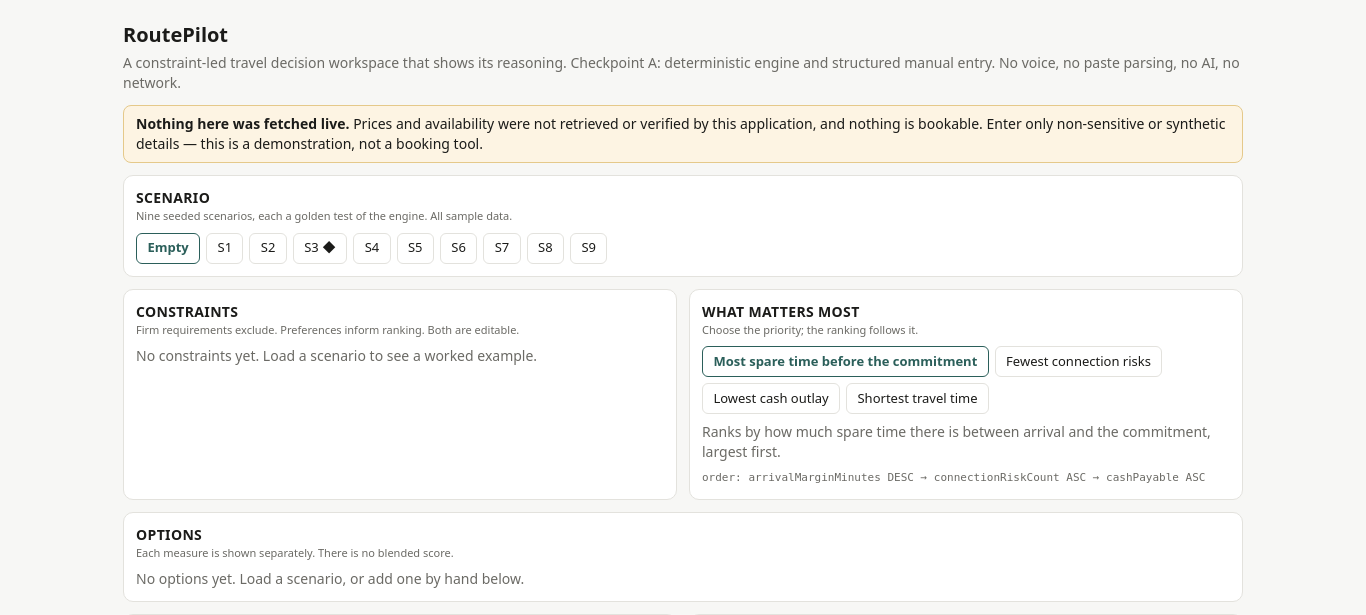
Test case: a proposal conflicting with a human-authored constraint › "Replace with the suggestion" updates it deliberately
Step 1. Click the button "S1" → (225, 248), box 206,232 -> 244,264
(page scrolled)
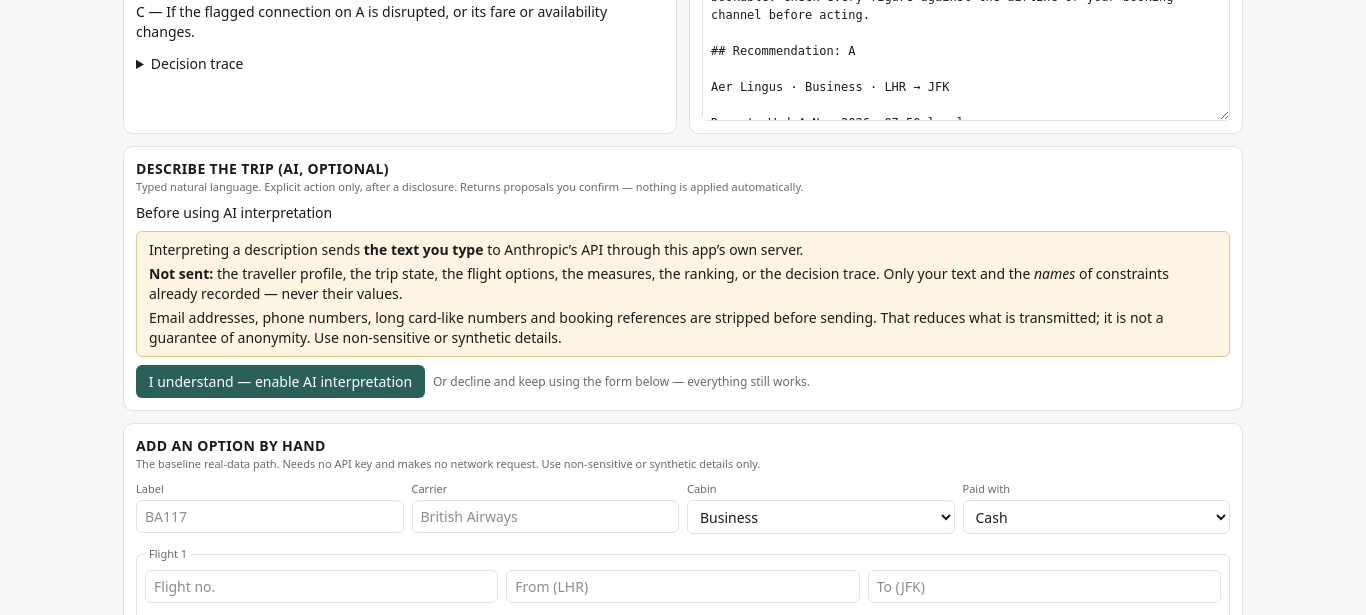
Step 2. Click the button "I understand — enable AI interpretation" → (280, 382), box 136,365 -> 425,398
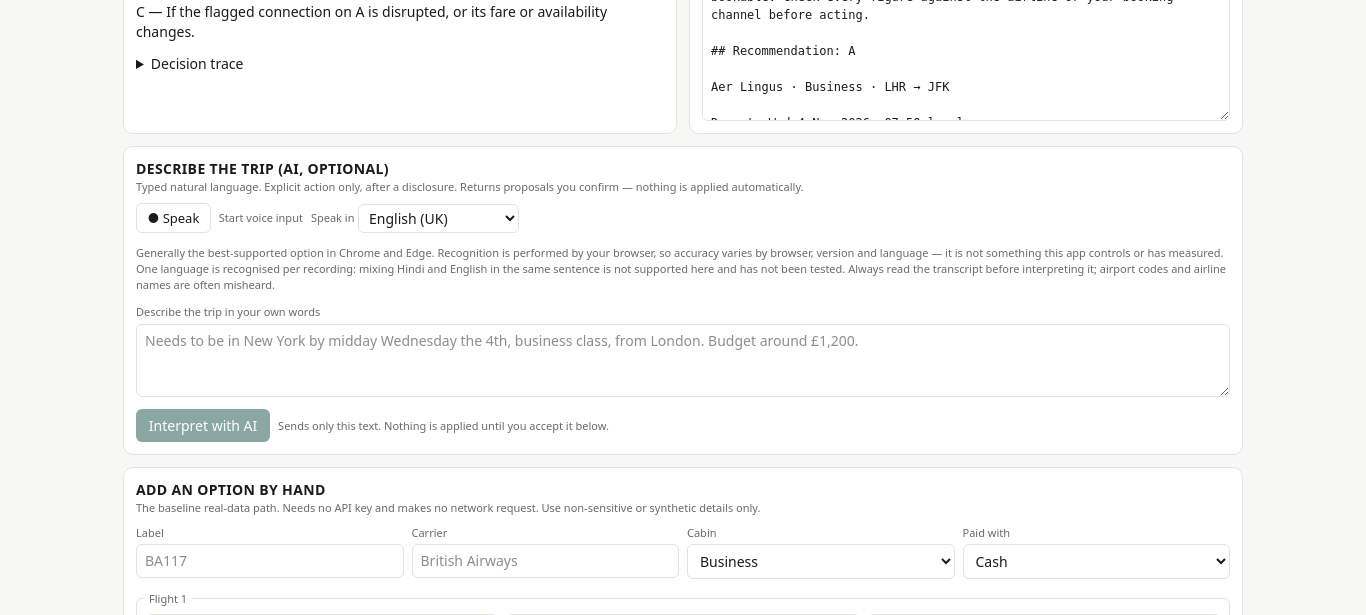
Step 3. Type "Should land by early evening on the 4th." into the text box labelled "Describe the trip in your own words" → (683, 361), box 136,324 -> 1230,397
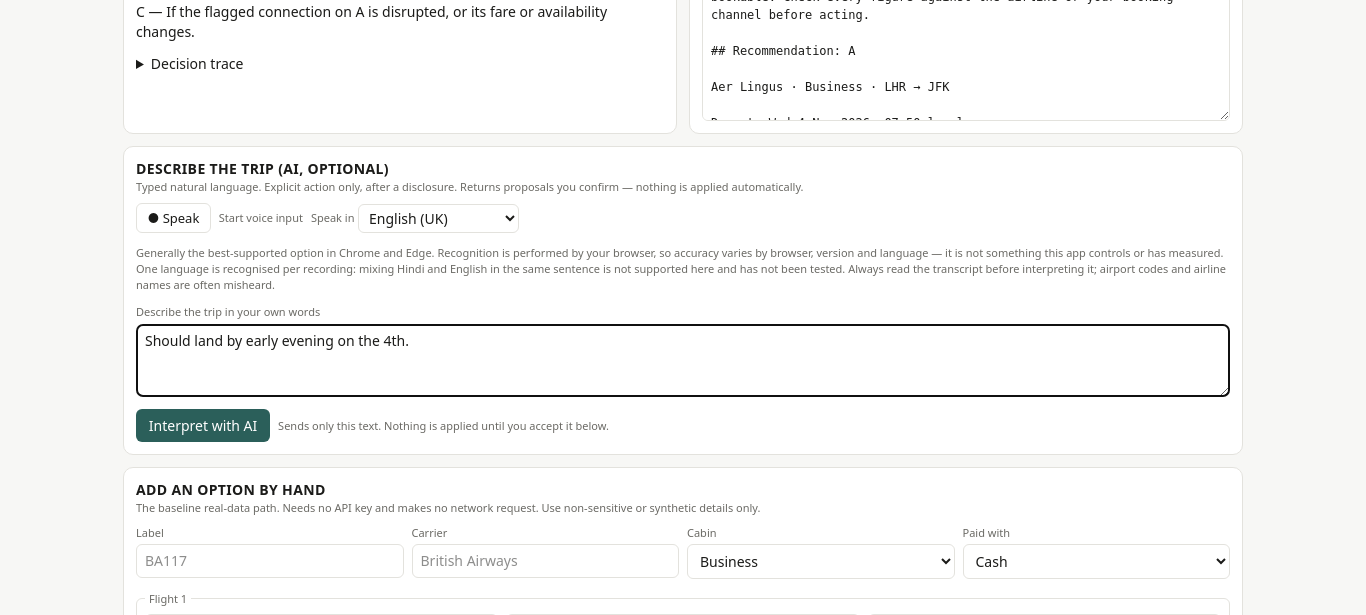
Step 4. Click the button "Interpret with AI" → (203, 426), box 136,409 -> 270,442
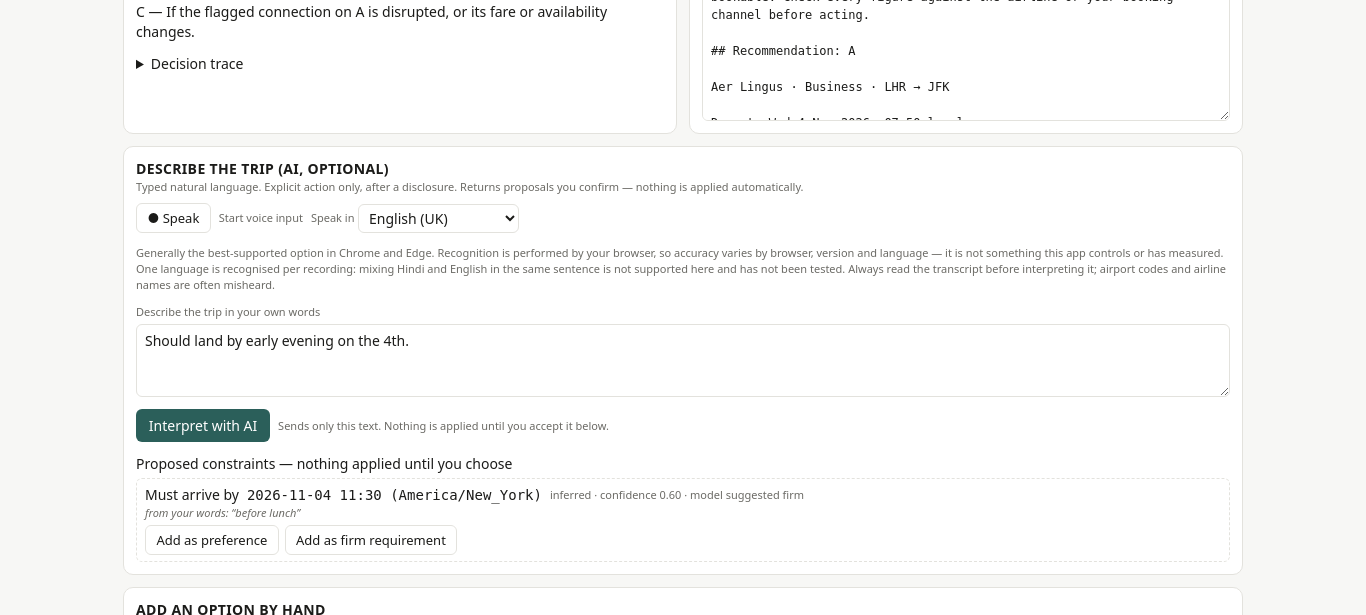
Expected: the heading "Proposed constraints — nothing applied until you choose" is shown, 136,454 -> 512,473
Step 5. Click the button "Add as firm requirement" → (371, 540), box 285,525 -> 457,555
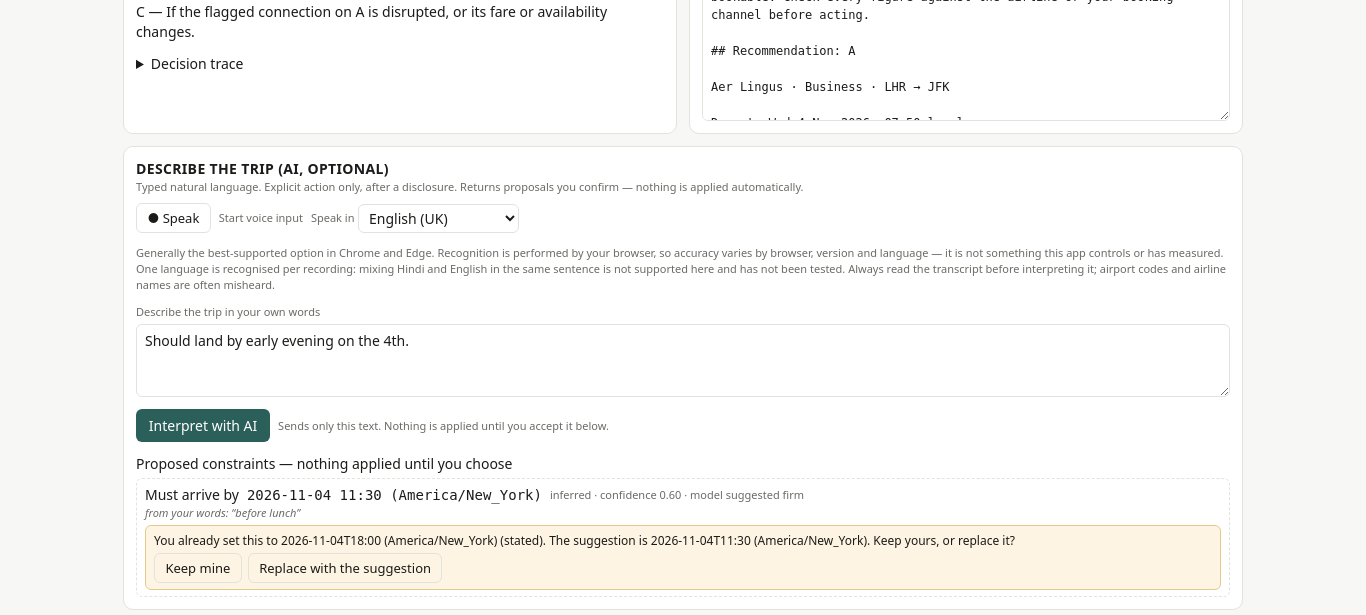
Expected: the text "You already set this to" is shown, 154,532 -> 1015,549
Step 6. Click the button "Replace with the suggestion" → (345, 568), box 248,553 -> 442,583
(page scrolled)
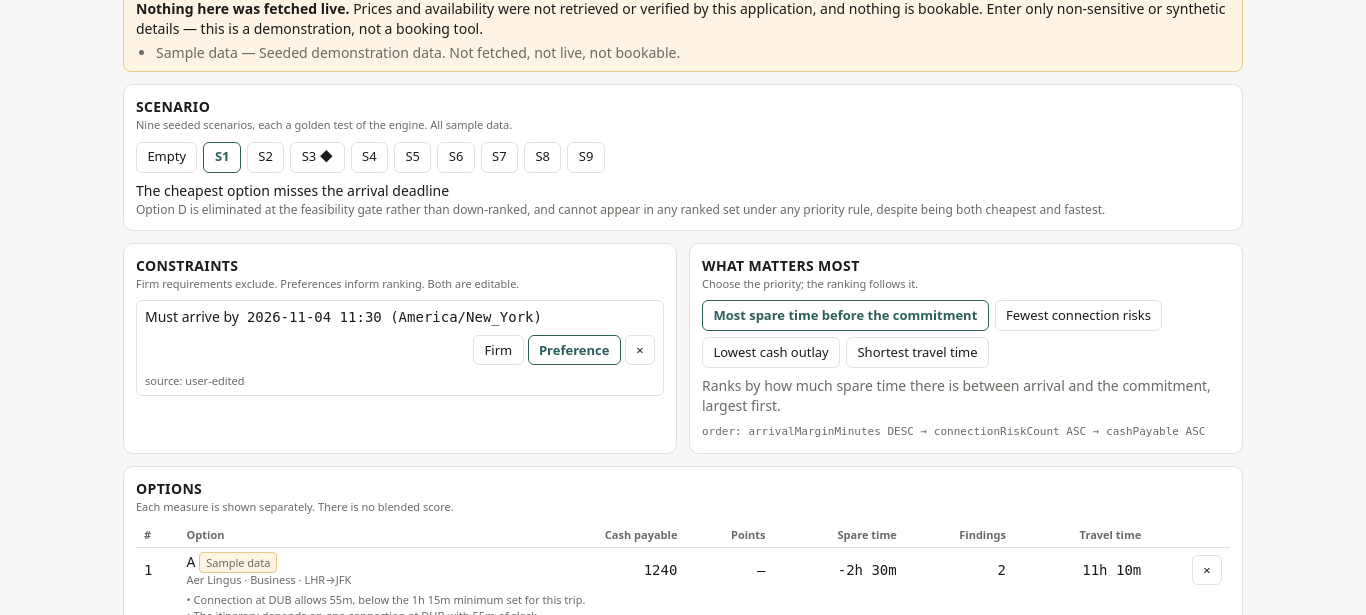
Expected: the text "2026-11-04 11:30 (America/New_York)" is shown, 247,307 -> 542,327
Expected: the text "18:00" is gone
Expected: the text "source: user-edited" is shown, 145,373 -> 244,388
